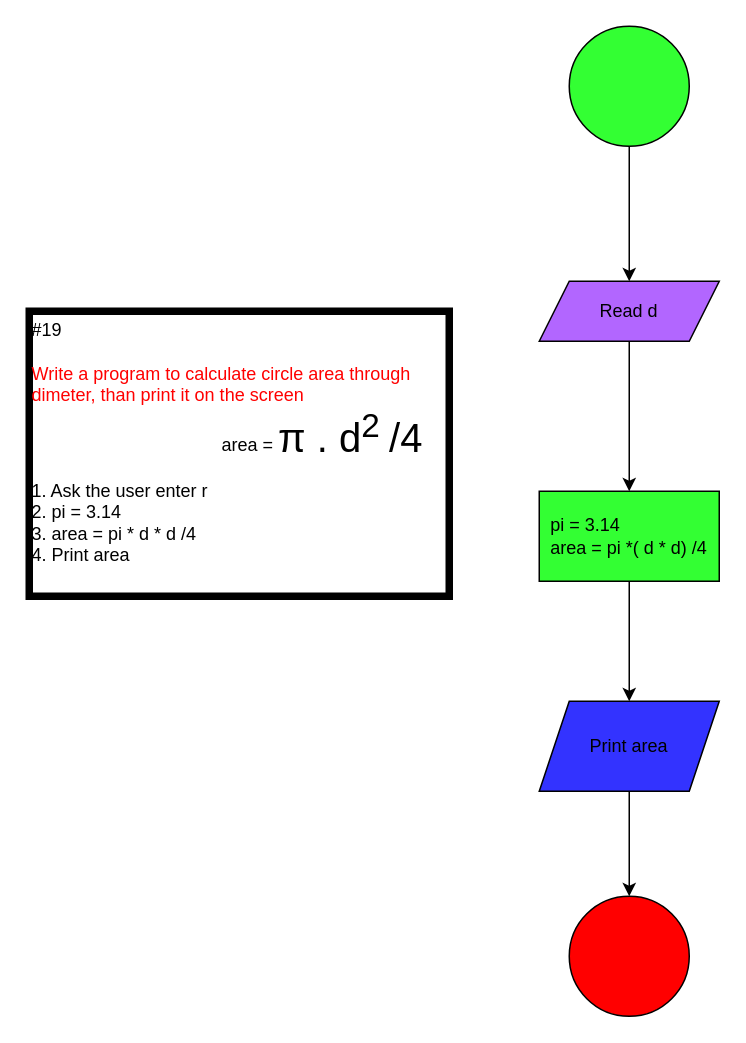
Some shapes in this 746 by 1043 pixel diagram are drawn without their labels. The centre of each missing label's shape, as x and y in pixels:
End: the point at 628,955
Start: the point at 628,85
